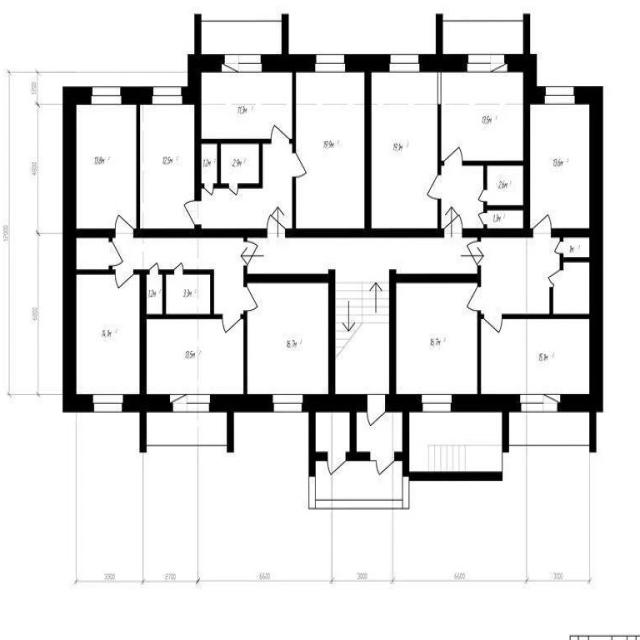Corridors: (113, 238, 242, 313), (248, 237, 477, 273), (202, 145, 291, 228), (481, 238, 559, 313), (317, 461, 401, 499), (442, 167, 483, 228), (147, 413, 227, 444), (510, 413, 590, 444), (202, 23, 281, 54), (443, 22, 523, 52), (554, 263, 589, 313), (358, 413, 402, 451), (167, 275, 209, 313), (221, 144, 258, 183), (488, 167, 522, 204), (316, 413, 349, 451), (77, 238, 108, 269), (488, 211, 522, 228), (202, 145, 216, 183), (148, 276, 161, 313), (564, 238, 589, 256)
Doors: (366, 393, 385, 428), (370, 451, 395, 476), (532, 212, 553, 237), (442, 213, 463, 238), (181, 199, 201, 225), (266, 212, 286, 237), (115, 212, 134, 238), (326, 451, 345, 477), (242, 239, 260, 265), (114, 269, 135, 291), (484, 313, 504, 336), (270, 122, 290, 145), (425, 174, 442, 200), (443, 145, 464, 166), (465, 285, 481, 312), (465, 240, 482, 265), (221, 313, 241, 334), (108, 242, 124, 268), (243, 287, 259, 312), (547, 269, 564, 288), (228, 183, 239, 198), (149, 260, 160, 275), (552, 241, 563, 255), (477, 211, 488, 225), (477, 190, 488, 204), (173, 261, 184, 275), (204, 182, 214, 197), (438, 72, 441, 104)
LBwalls: (285, 55, 444, 238), (62, 86, 116, 413), (247, 268, 368, 413), (462, 53, 547, 238), (557, 86, 603, 412), (385, 269, 478, 413), (121, 275, 174, 413), (180, 54, 225, 201), (133, 224, 268, 238), (451, 393, 522, 413), (209, 393, 275, 413), (261, 55, 317, 73), (419, 54, 469, 72), (121, 86, 153, 105), (551, 228, 589, 238)
Offices: (296, 72, 364, 228), (372, 72, 437, 228), (248, 283, 328, 393), (397, 283, 476, 393), (482, 320, 589, 393), (77, 104, 136, 228), (77, 275, 139, 393), (530, 105, 589, 228), (147, 319, 243, 393), (442, 72, 522, 159), (141, 105, 194, 227), (202, 72, 292, 138)
Stairs: (335, 270, 389, 393), (409, 412, 501, 472)
Walls: (308, 412, 503, 509), (147, 269, 223, 319), (201, 138, 272, 189), (502, 286, 590, 319), (461, 159, 523, 189), (345, 412, 370, 462), (239, 310, 248, 394), (477, 310, 485, 393), (437, 104, 445, 176), (289, 72, 296, 154), (559, 253, 589, 271), (483, 201, 523, 214), (76, 265, 115, 275), (436, 13, 444, 54), (202, 19, 282, 23), (589, 412, 597, 452), (444, 19, 523, 23), (139, 413, 147, 452), (226, 413, 234, 452), (282, 14, 289, 55), (523, 14, 530, 54), (194, 14, 201, 54), (502, 413, 509, 453), (509, 444, 588, 447), (147, 444, 226, 447), (292, 176, 296, 228), (437, 198, 441, 229), (243, 265, 248, 288), (133, 269, 150, 275), (477, 265, 481, 288), (560, 238, 564, 243), (477, 237, 481, 242), (243, 238, 247, 243), (108, 238, 113, 242), (202, 183, 205, 189), (484, 224, 488, 228)
Windows: (519, 393, 561, 412), (170, 394, 211, 413), (222, 54, 262, 73), (468, 53, 507, 72), (93, 393, 124, 413), (390, 54, 420, 73), (545, 86, 575, 105), (152, 86, 182, 105), (422, 394, 452, 413), (273, 394, 303, 412), (316, 55, 345, 73), (92, 86, 121, 104)
